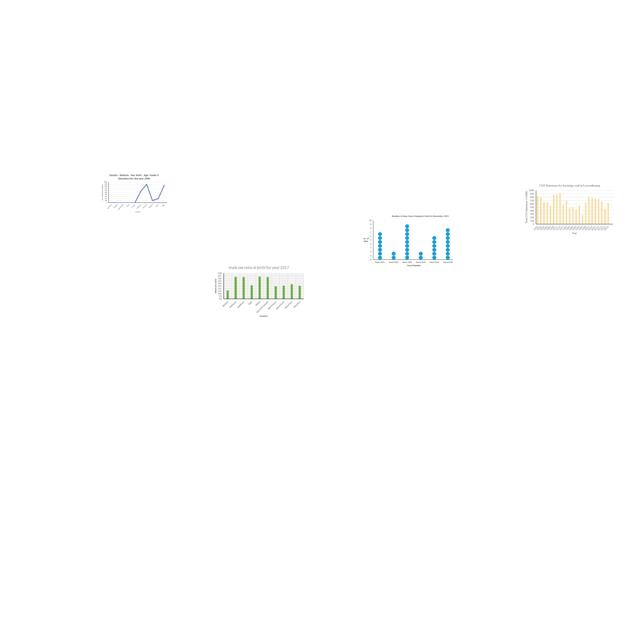Graph: (211, 263, 306, 320), (361, 214, 453, 268), (524, 183, 614, 235), (101, 172, 168, 213)
